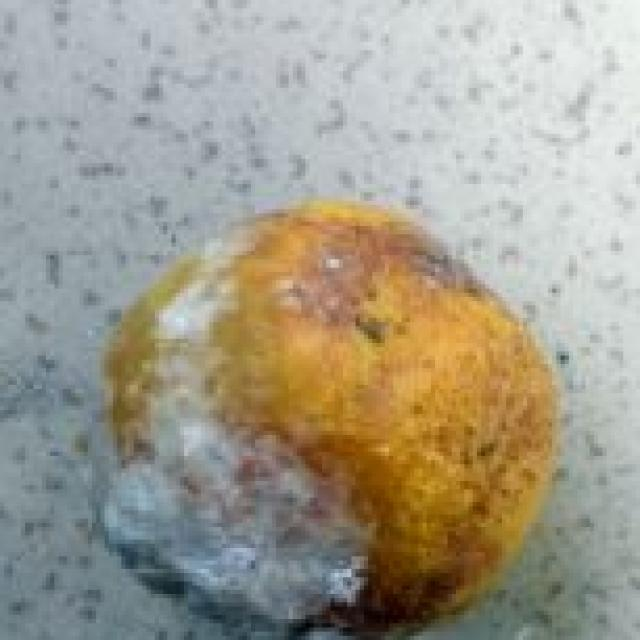Bad_Lime-0-1-day: (96, 197, 565, 640)
